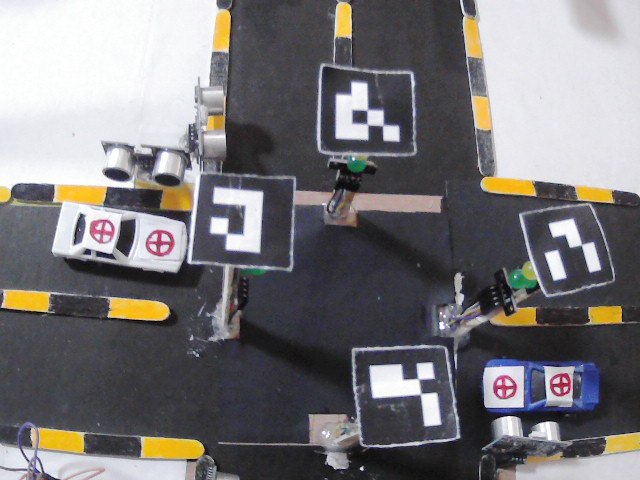aruco_marker: (189, 171, 299, 271), (353, 346, 458, 445), (320, 63, 417, 157), (523, 198, 612, 294)
emergency_vehicle: (53, 196, 190, 277), (482, 355, 601, 420)
traffic_light: (481, 258, 534, 315), (333, 156, 374, 190)
uno_breadboard: (480, 413, 570, 468), (100, 139, 191, 187), (186, 77, 229, 159), (189, 451, 238, 480)
